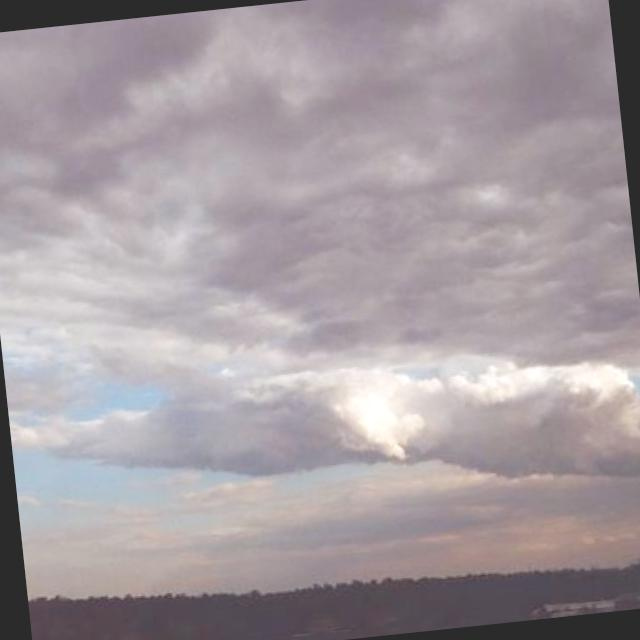Sc: (1, 7, 640, 427)
